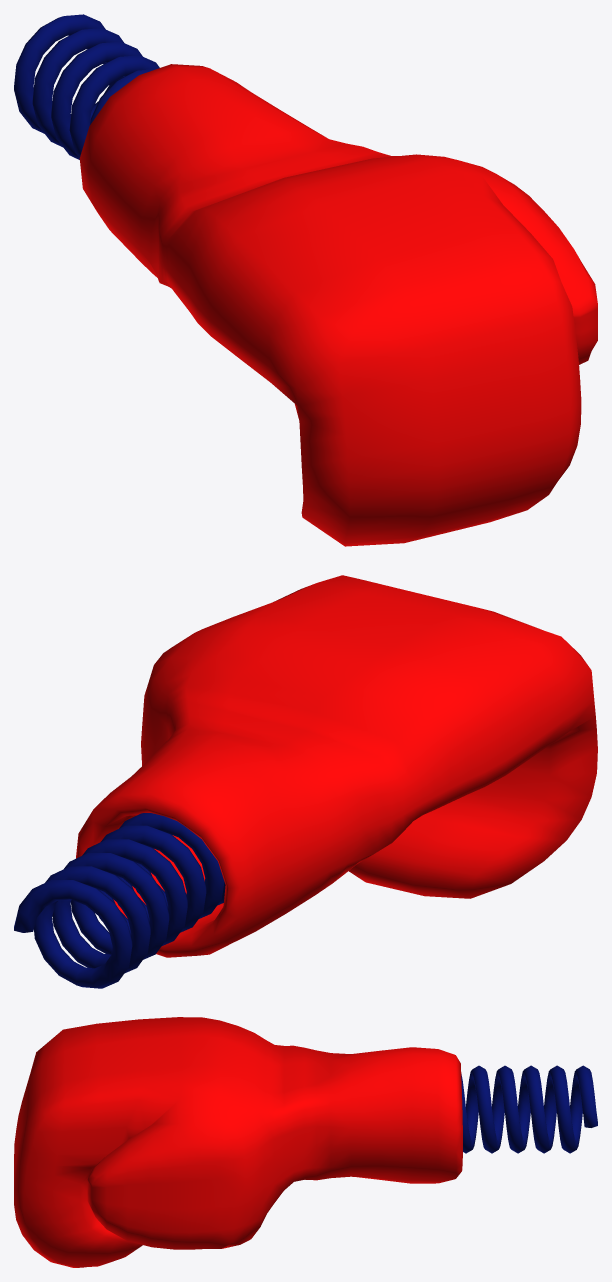
The model's file is Punching Glove.fbx.
The picture shows the model from 3 angles, top to bottom: view 1: azimuth 30°, elevation 25°; view 2: azimuth 150°, elevation 25°; view 3: azimuth 270°, elevation 25°; orthographic projection. The views are drawn at different scales.
Parts seen in each view (by area): view 1: Boxing Glove, Boxing_Spring; view 2: Boxing Glove, Boxing_Spring; view 3: Boxing Glove, Boxing_Spring.
Boxes of the visible parts, box(x1,y1,x2,y2) form: Boxing Glove: box(79, 64, 597, 546); Boxing_Spring: box(14, 14, 159, 159); Boxing Glove: box(76, 575, 597, 957); Boxing_Spring: box(14, 813, 225, 988); Boxing Glove: box(14, 1017, 462, 1267); Boxing_Spring: box(461, 1065, 597, 1153).
Size of the model in its own units: 5.03 by 4.16 by 10.73.
